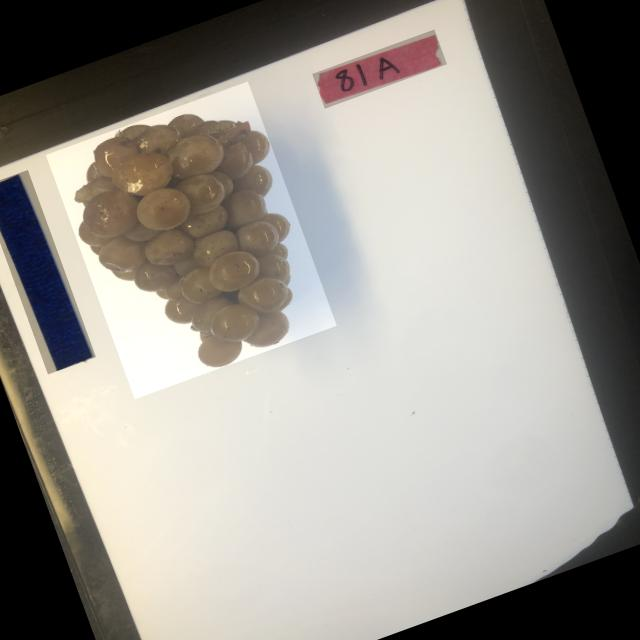grape_cluster: (46, 81, 337, 399)
index: (312, 30, 447, 109)
measure_label: (0, 170, 96, 374)
